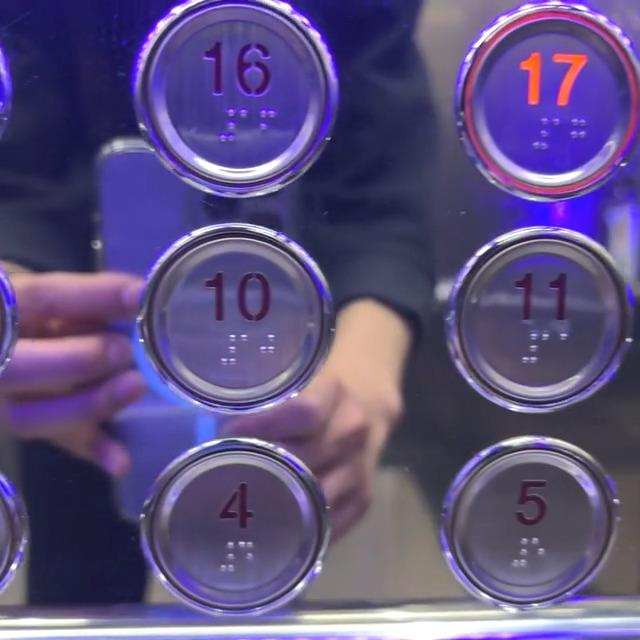button: (458, 0, 640, 186), (437, 231, 627, 405), (431, 436, 616, 614), (139, 448, 337, 596), (148, 245, 318, 412), (166, 16, 327, 186)
